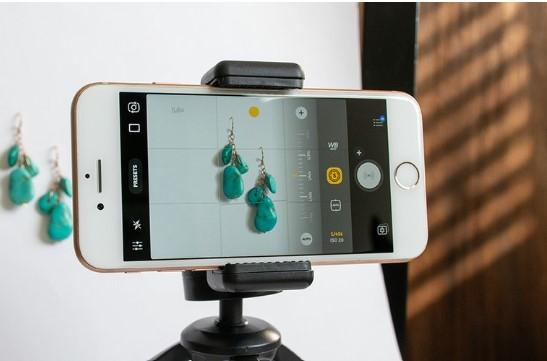Smart Phone: (71, 82, 429, 274)
